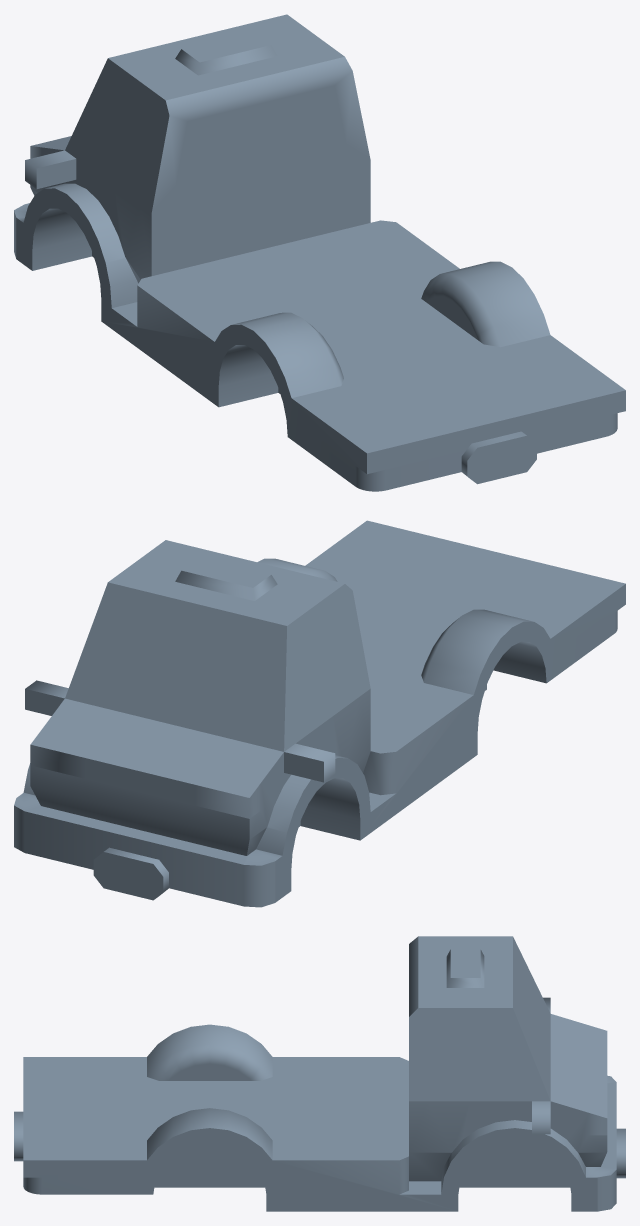
Rendered from delivery-flat.glb.
The picture shows the model from 3 angles, top to bottom: view 1: azimuth 30°, elevation 25°; view 2: azimuth 150°, elevation 25°; view 3: azimuth 270°, elevation 25°; orthographic projection. The views are drawn at different scales.
Parts seen in each view (by area): view 1: body; view 2: body; view 3: body.
Part boxes in pixels (left/top/right/bottom): body: left=14, top=14, right=625, bottom=491; body: left=14, top=520, right=625, bottom=907; body: left=14, top=936, right=625, bottom=1211.
Bounding box in the file's own units: 1.5 × 1.2 × 3.25.
